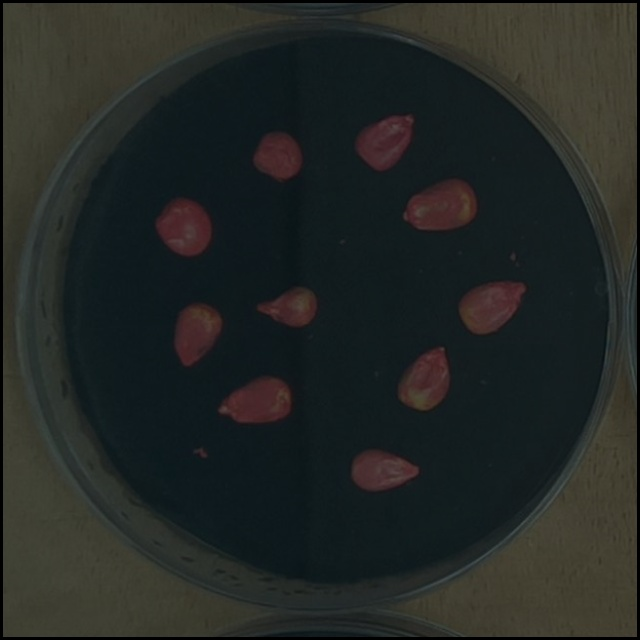Zea mays: (395, 171, 482, 238), (451, 273, 533, 343), (211, 367, 299, 431), (389, 336, 456, 419), (347, 105, 420, 179), (149, 190, 219, 264), (166, 295, 228, 375), (343, 440, 426, 499), (248, 276, 324, 336), (244, 121, 308, 188)
